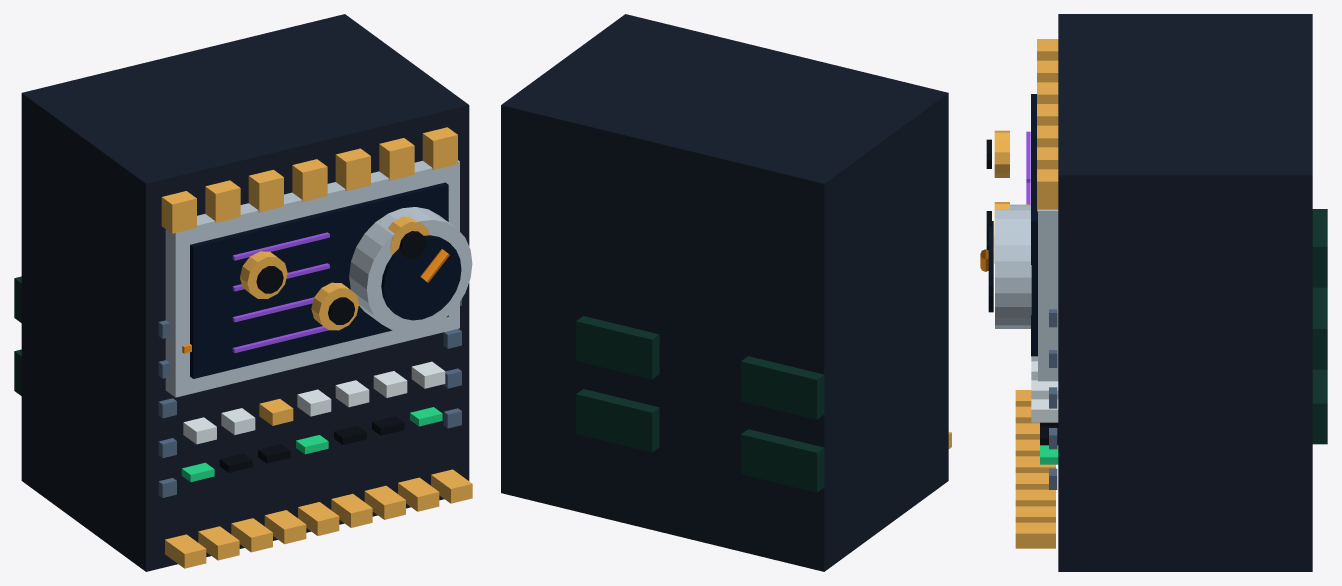
The model's file is 50_L91_FrequencyCounterRack.fbx.
The picture shows the model from 3 angles, left to right: view 1: azimuth 30°, elevation 25°; view 2: azimuth 150°, elevation 25°; view 3: azimuth 270°, elevation 25°; orthographic projection. The views are drawn at different scales.
Parts seen in each view (by area): view 1: L91_FrequencyCounterRack, L91_FrequencyCounterRack_Part_0015, L91_FrequencyCounterRack_Part_0013, L91_FrequencyCounterRack_Part_0017, L91_FrequencyCounterRack_Part_0014, L91_FrequencyCounterRack_Part_0016, L91_FrequencyCounterRack_Part_0018; view 2: L91_FrequencyCounterRack; view 3: L91_FrequencyCounterRack, L91_FrequencyCounterRack_Part_0013.
Part boxes in pixels (x1,y1,x2,y2): L91_FrequencyCounterRack: (14, 14, 472, 571); L91_FrequencyCounterRack_Part_0015: (311, 282, 358, 330); L91_FrequencyCounterRack_Part_0013: (240, 251, 287, 299); L91_FrequencyCounterRack_Part_0017: (388, 216, 429, 255); L91_FrequencyCounterRack_Part_0014: (256, 266, 283, 293); L91_FrequencyCounterRack_Part_0016: (328, 297, 354, 324); L91_FrequencyCounterRack_Part_0018: (399, 231, 426, 258); L91_FrequencyCounterRack: (501, 14, 951, 571); L91_FrequencyCounterRack: (988, 14, 1327, 571); L91_FrequencyCounterRack_Part_0013: (994, 130, 1009, 177).
Bounding box in the file's own units: 104 × 119 × 94.76.
